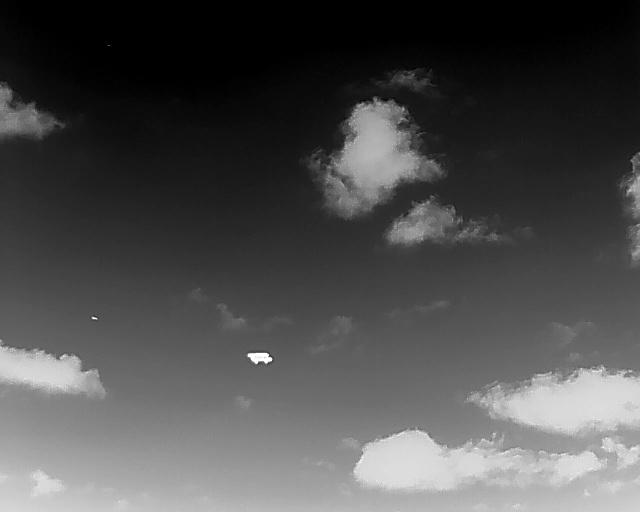fpv-drone: (246, 351, 272, 364)
